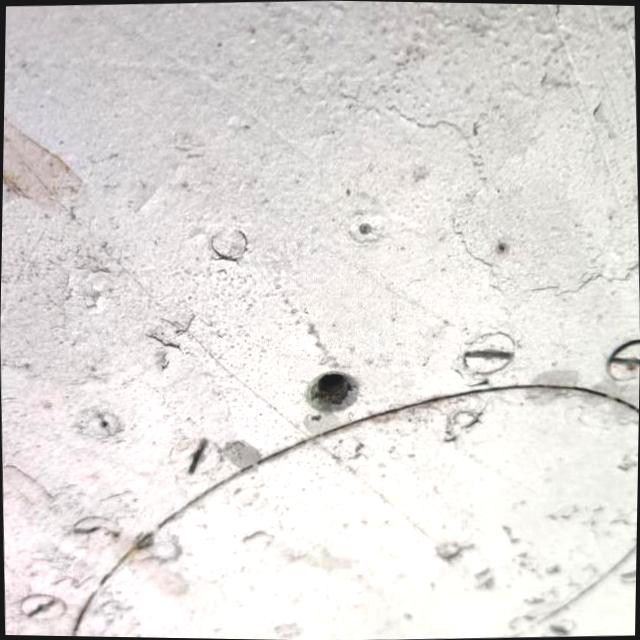Missing Fastener: (306, 369, 362, 410)
